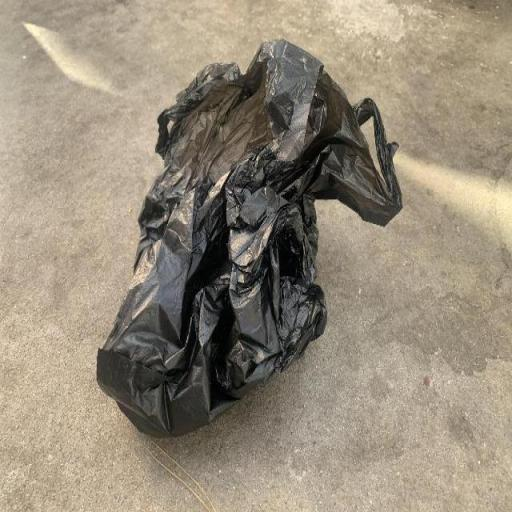plastic-bag: (96, 38, 409, 438)
